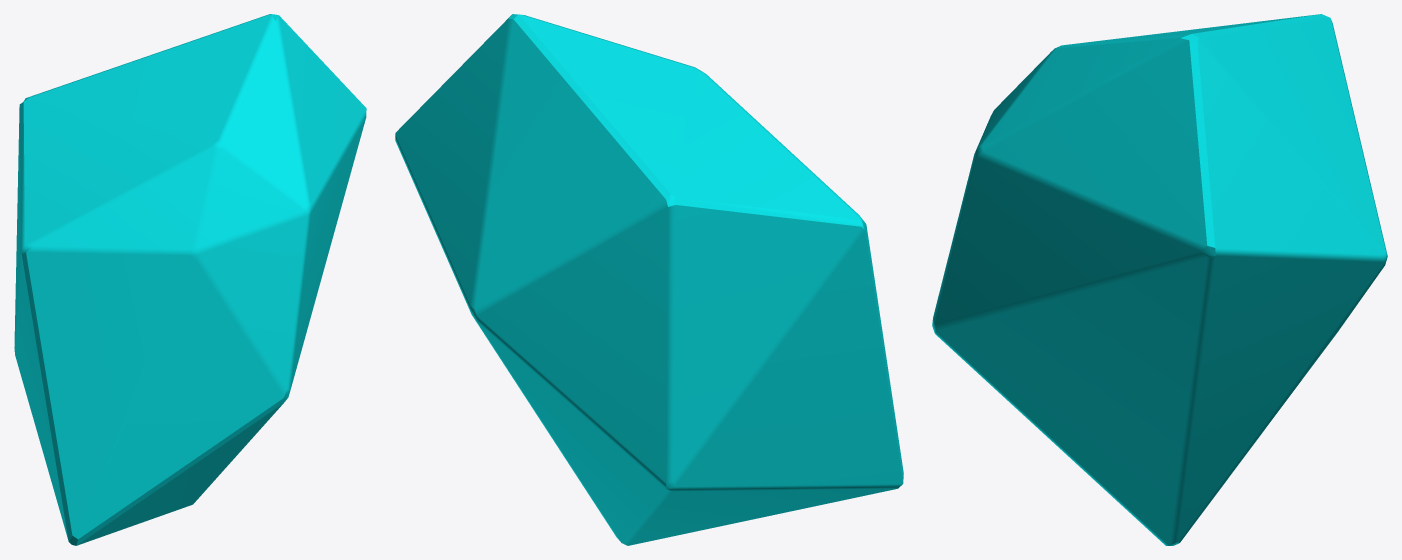
Rendered from diamond.fbx.
The picture shows the model from 3 angles, left to right: view 1: azimuth 30°, elevation 25°; view 2: azimuth 150°, elevation 25°; view 3: azimuth 270°, elevation 25°; orthographic projection. The views are drawn at different scales.
Visible parts, largest first — view 1: pPlatonic1; view 2: pPlatonic1; view 3: pPlatonic1.
Boxes of the visible parts, x1=… form: pPlatonic1: x1=14, y1=14, x2=366, y2=545; pPlatonic1: x1=395, y1=14, x2=903, y2=545; pPlatonic1: x1=932, y1=14, x2=1387, y2=545.
Size of the model in its own units: 0.4883 by 0.5636 by 0.4109.
